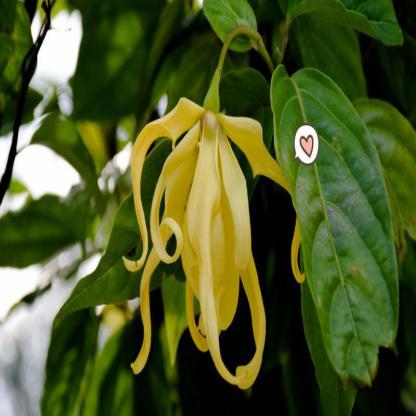Kenanga: (145, 80, 268, 355)
